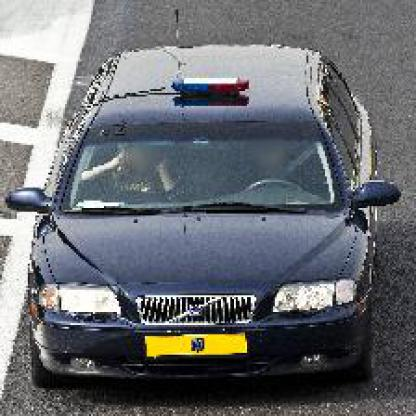emergency: (3, 37, 403, 393)
